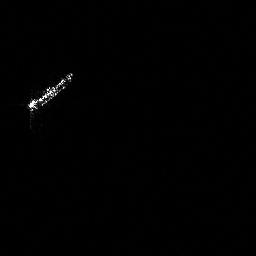ship: (23, 68, 79, 120)
